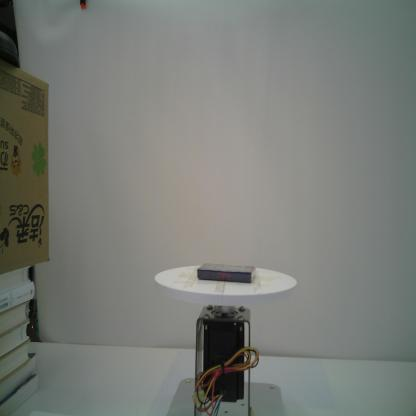Gum: (197, 262, 256, 283)
